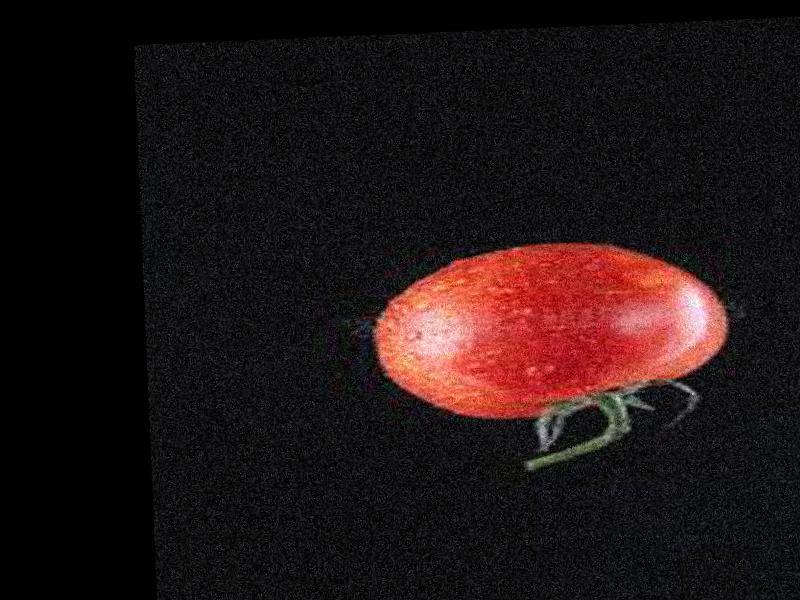Tomato: (369, 235, 730, 425)
